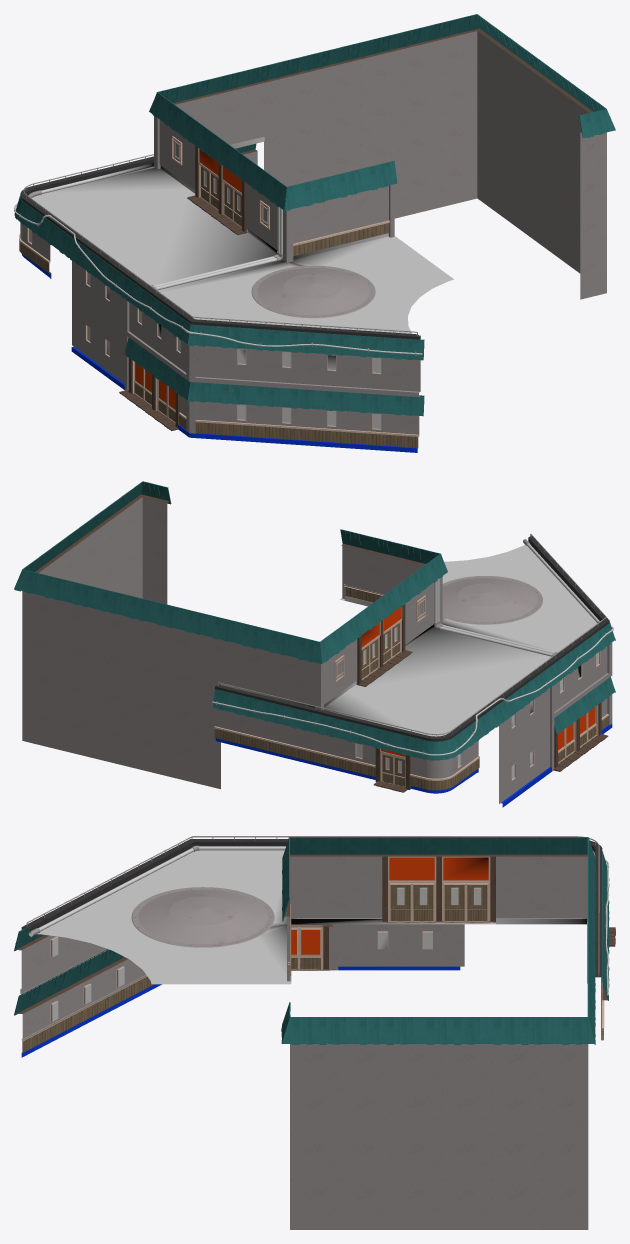
The model's file is SM_ENV_KNVLLG_AreaJ_Building_A_Part02.mo.fbx.
3 renders of one model, top to bottom at view 1: azimuth 30°, elevation 25°; view 2: azimuth 150°, elevation 25°; view 3: azimuth 270°, elevation 25°, orthographic. The views are drawn at different scales.
Visible parts, largest first — view 1: SM_ENV_KNVLLG_AreaJ_Building_A_Part02.mo; view 2: SM_ENV_KNVLLG_AreaJ_Building_A_Part02.mo; view 3: SM_ENV_KNVLLG_AreaJ_Building_A_Part02.mo.
Boxes of the visible parts, x1,y1,x2,y2 form: SM_ENV_KNVLLG_AreaJ_Building_A_Part02.mo: (14, 14, 615, 452); SM_ENV_KNVLLG_AreaJ_Building_A_Part02.mo: (14, 481, 615, 807); SM_ENV_KNVLLG_AreaJ_Building_A_Part02.mo: (14, 836, 615, 1229).
Size of the model in its own units: 44.46 by 16.51 by 42.37.
